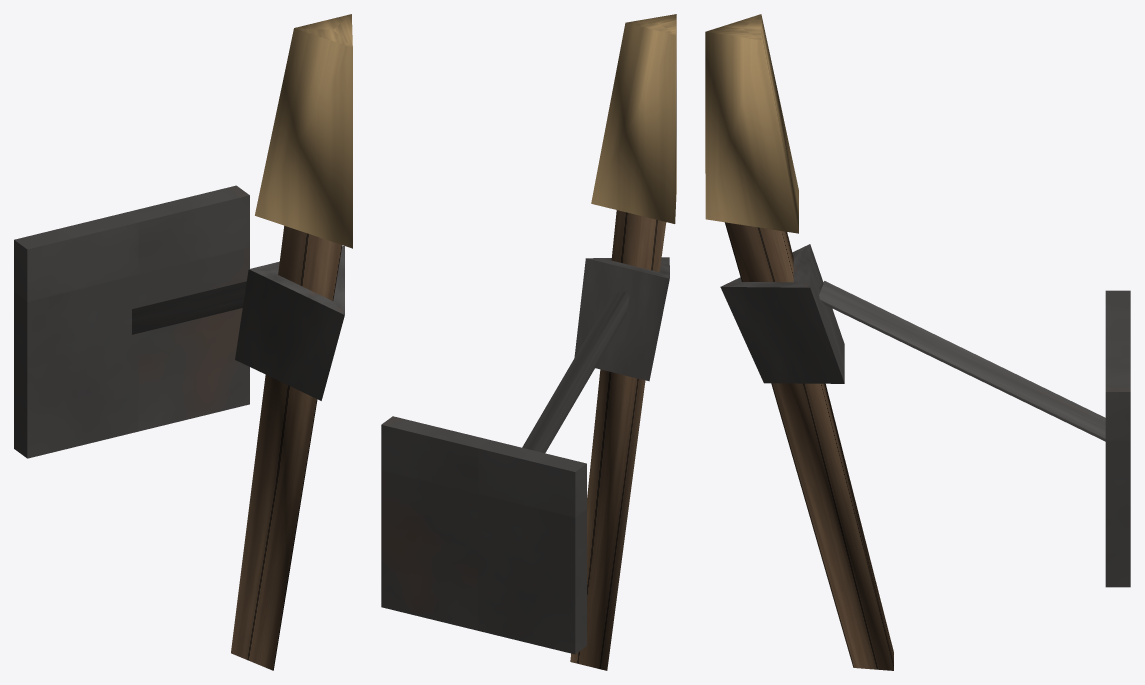
File: Torch_Metal_LOD2.gltf
3 renders of one model, left to right at view 1: azimuth 30°, elevation 25°; view 2: azimuth 150°, elevation 25°; view 3: azimuth 270°, elevation 25°, orthographic. The views are drawn at different scales.
Visible parts, largest first — view 1: Torch_Metal_LOD2; view 2: Torch_Metal_LOD2; view 3: Torch_Metal_LOD2.
Boxes of the visible parts, x1,y1,x2,y2 form: Torch_Metal_LOD2: (14, 14, 352, 670); Torch_Metal_LOD2: (381, 14, 676, 670); Torch_Metal_LOD2: (705, 14, 1130, 670).
Size of the model in its own units: 0.22 by 0.6484 by 0.39.
3 materials, 3 textured.
